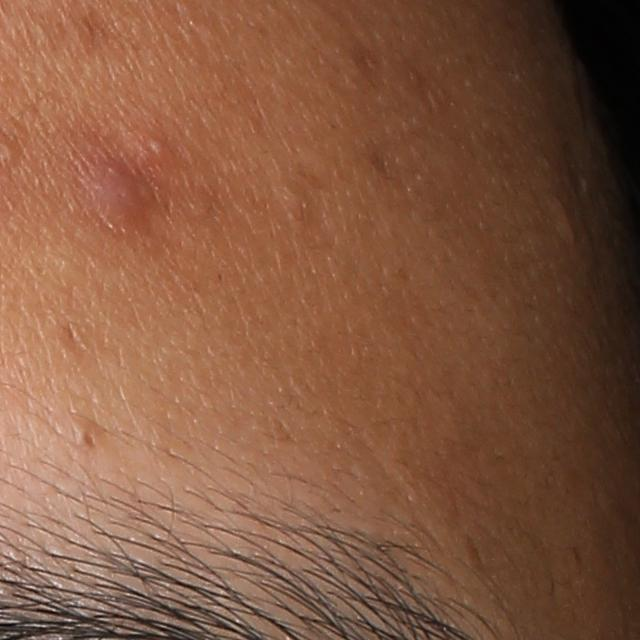comedo: (73, 420, 103, 454), (144, 128, 171, 160)
papule: (83, 156, 145, 239)
